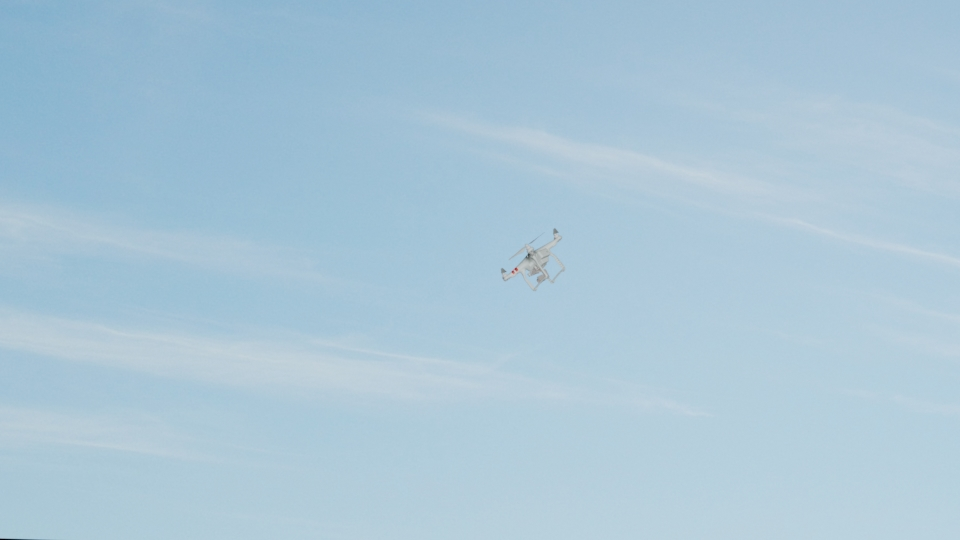drone: (498, 228, 564, 288)
